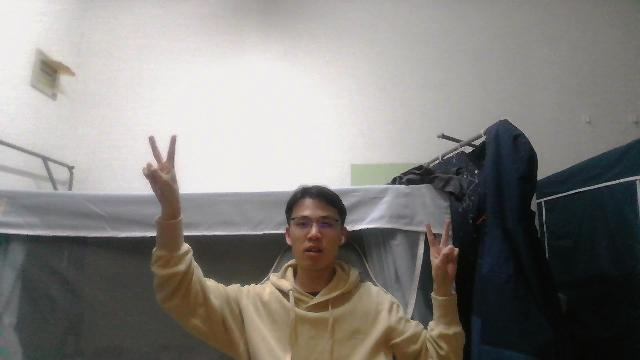yes: (137, 128, 193, 217), (416, 217, 467, 296)
